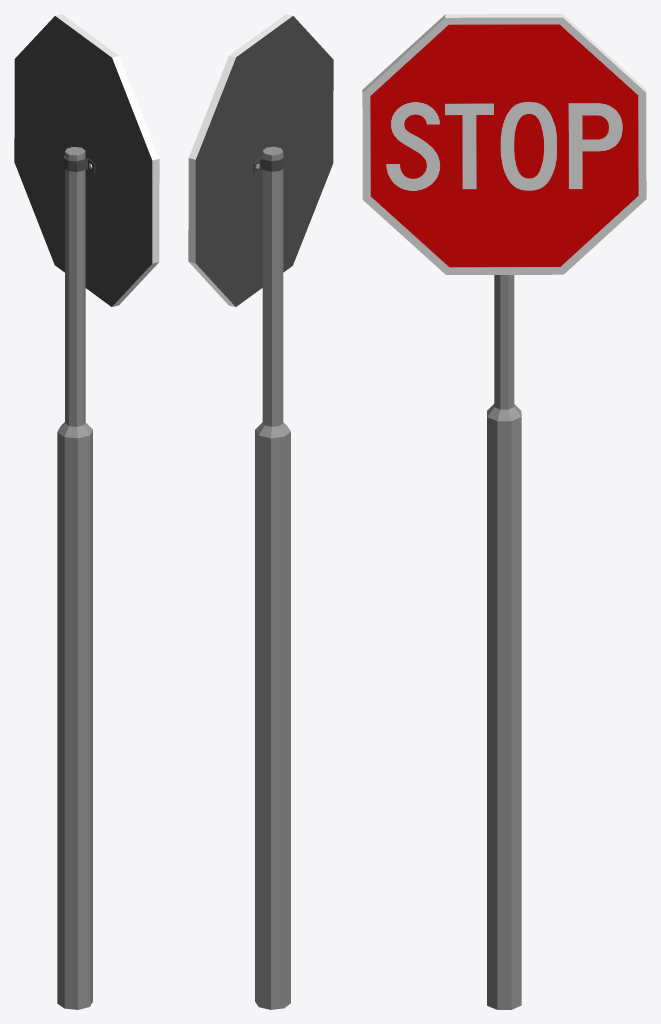
Rendered from Stop Sign 2.0.fbx.
3 renders of one model, left to right at view 1: azimuth 30°, elevation 25°; view 2: azimuth 150°, elevation 25°; view 3: azimuth 270°, elevation 25°, orthographic. The views are drawn at different scales.
Parts seen in each view (by area): view 1: Cylinder.001, Cylinder; view 2: Cylinder.001, Cylinder; view 3: Cylinder.001, Cylinder.
Part boxes in pixels (x1,y1,x2,y2): Cylinder.001: (14,14,159,306); Cylinder: (57,146,95,1009); Cylinder.001: (188,14,333,306); Cylinder: (253,146,290,1009); Cylinder.001: (362,14,646,274); Cylinder: (487,275,521,1009).
Size of the model in its own units: 9.9 by 303 by 78.59.
